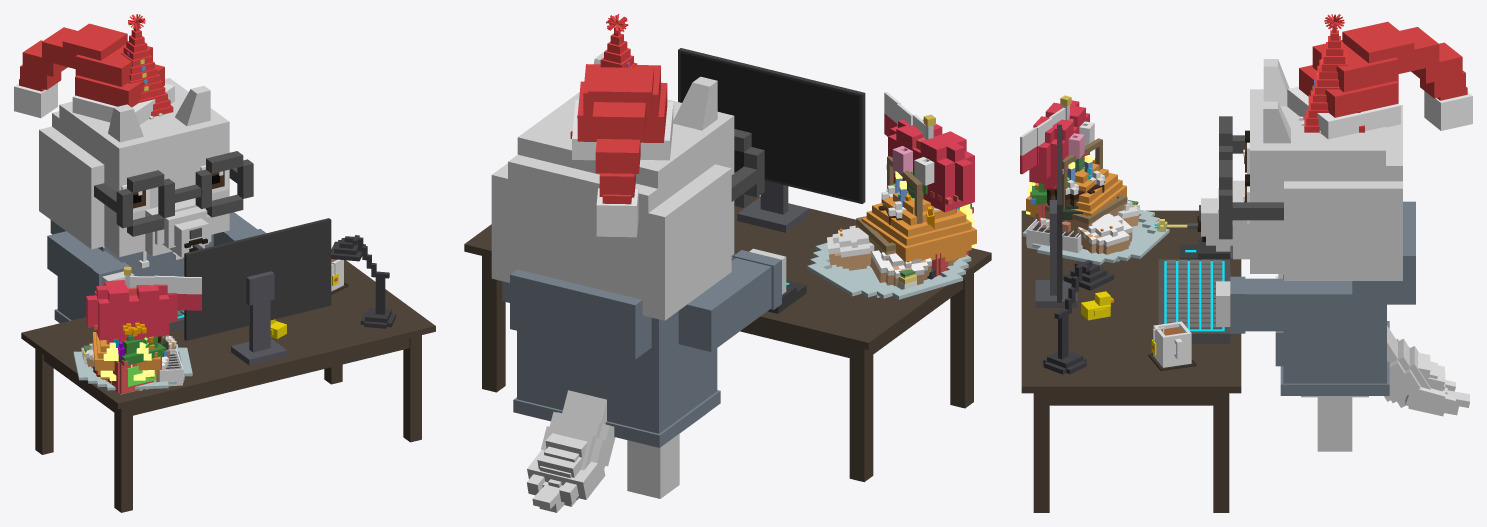
Rendered from wolfie_portfolio.glb.
The picture shows the model from 3 angles, left to right: view 1: azimuth 30°, elevation 25°; view 2: azimuth 150°, elevation 25°; view 3: azimuth 270°, elevation 25°; orthographic projection. The views are drawn at different scales.
Visible parts, largest first — view 1: wolf, desk, monitor, mikolaj_hat, walentynki_heart, urodziny_hat, lamp_body, halloween_pumpkin, donuts, polish_flag, sylwester_fireworks, choinka (+1 smaller); view 2: wolf, desk, monitor, mikolaj_hat, donuts, halloween_pumpkin, walentynki_heart, wielkanoc_basket, flowers, urodziny_hat, polish_flag, cake; view 3: wolf, desk, mikolaj_hat, keyboard, donuts, monitor, lamp_body, urodziny_hat, walentynki_heart, halloween_pumpkin, tea, wielkanoc_basket (+6 smaller).
Part boxes in pixels (left/top/right/bottom): wolf: left=39, top=78, right=266, bottom=322; desk: left=21, top=260, right=435, bottom=512; monitor: left=184, top=218, right=331, bottom=365; mikolaj_hat: left=14, top=23, right=174, bottom=124; walentynki_heart: left=86, top=280, right=177, bottom=345; urodziny_hat: left=121, top=14, right=173, bottom=119; lamp_body: left=331, top=235, right=395, bottom=328; halloween_pumpkin: left=93, top=332, right=160, bottom=381; donuts: left=73, top=335, right=192, bottom=390; polish_flag: left=124, top=266, right=201, bottom=389; sylwester_fireworks: left=96, top=336, right=161, bottom=394; choinka: left=118, top=334, right=167, bottom=366; wolf: left=491, top=52, right=786, bottom=512; desk: left=464, top=196, right=991, bottom=482; monitor: left=678, top=48, right=865, bottom=232; mikolaj_hat: left=572, top=64, right=673, bottom=237; donuts: left=807, top=225, right=971, bottom=299; halloween_pumpkin: left=861, top=183, right=976, bottom=262; walentynki_heart: left=888, top=119, right=974, bottom=212; wielkanoc_basket: left=856, top=156, right=953, bottom=267; flowers: left=886, top=137, right=960, bottom=204; urodziny_hat: left=570, top=14, right=637, bottom=138; polish_flag: left=884, top=92, right=935, bottom=139; cake: left=878, top=171, right=940, bottom=225; wolf: left=1197, top=59, right=1469, bottom=451; desk: left=1021, top=210, right=1241, bottom=512; mikolaj_hat: left=1287, top=21, right=1472, bottom=139; keyboard: left=1158, top=259, right=1230, bottom=343; donuts: left=1022, top=198, right=1169, bottom=265; monitor: left=1035, top=124, right=1077, bottom=307; lamp_body: left=1043, top=260, right=1113, bottom=374; urodziny_hat: left=1299, top=14, right=1364, bottom=133; walentynki_heart: left=1029, top=100, right=1089, bottom=189; halloween_pumpkin: left=1026, top=156, right=1126, bottom=219; tea: left=1148, top=321, right=1196, bottom=371; wielkanoc_basket: left=1035, top=138, right=1127, bottom=249.
Bounding box in the file's own units: 5.03 × 5.38 × 5.33.
